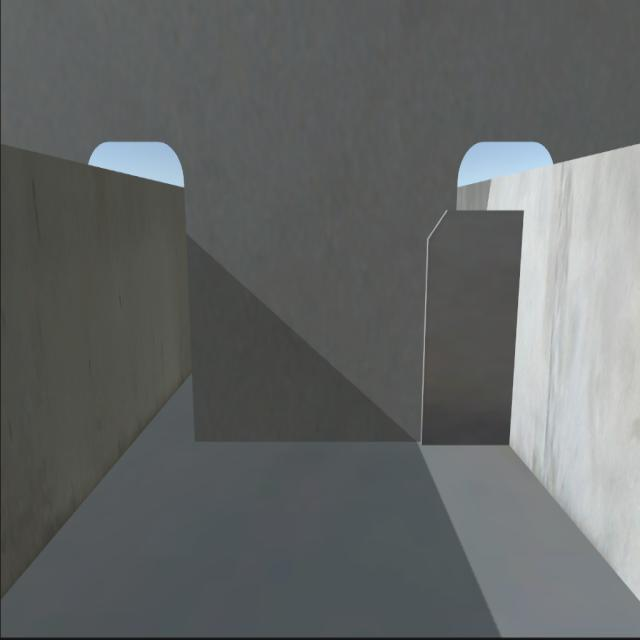fillet_yong_jeop_jang: (196, 432, 509, 449)
longi_yong_jeop_jang: (499, 209, 518, 445)
plate_CP03: (420, 194, 524, 444)
